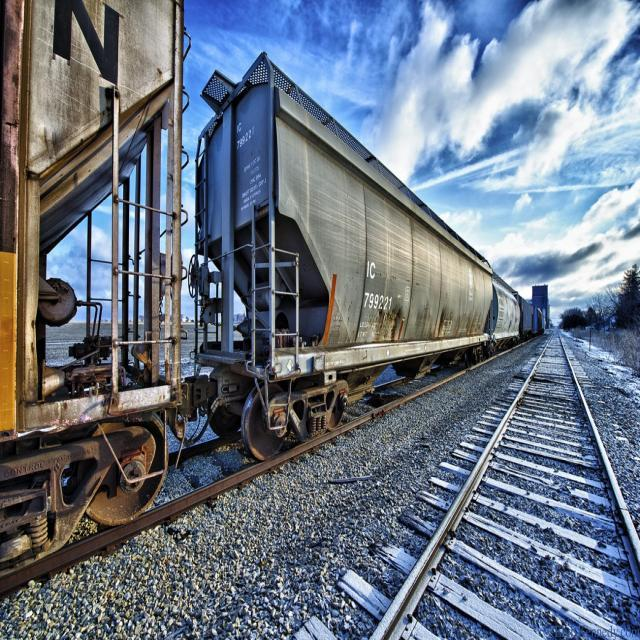wagon: (363, 289, 394, 315)
